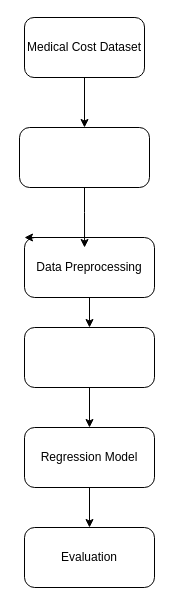
Some shapes in this 172 by 605 pixel diagram are drawn without their labels. The centre of each missing label's shape, as x and y in pixels:
Data Loading: point 84,157
Feature Selection: point 89,357
